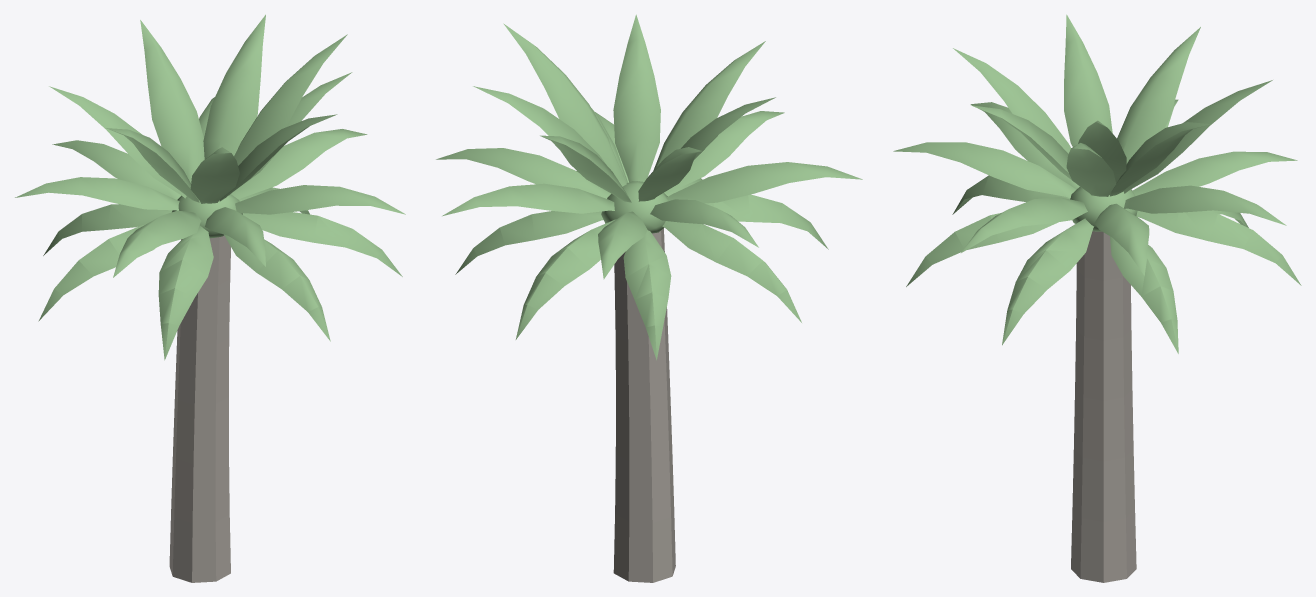
File: tree-palm-date-a.glb
3 views of the same model, side by side, from view 1: azimuth 30°, elevation 25°; view 2: azimuth 150°, elevation 25°; view 3: azimuth 270°, elevation 25° (orthographic). The views are drawn at different scales.
Parts seen in each view (by area): view 1: tree-palm-date-a; view 2: tree-palm-date-a; view 3: tree-palm-date-a.
Boxes of the visible parts, x1,y1,x2,y2 form: tree-palm-date-a: (15, 14, 405, 582); tree-palm-date-a: (436, 14, 862, 582); tree-palm-date-a: (893, 14, 1301, 582).
Bounding box in the file's own units: 0.7208 × 1 × 0.7147.
